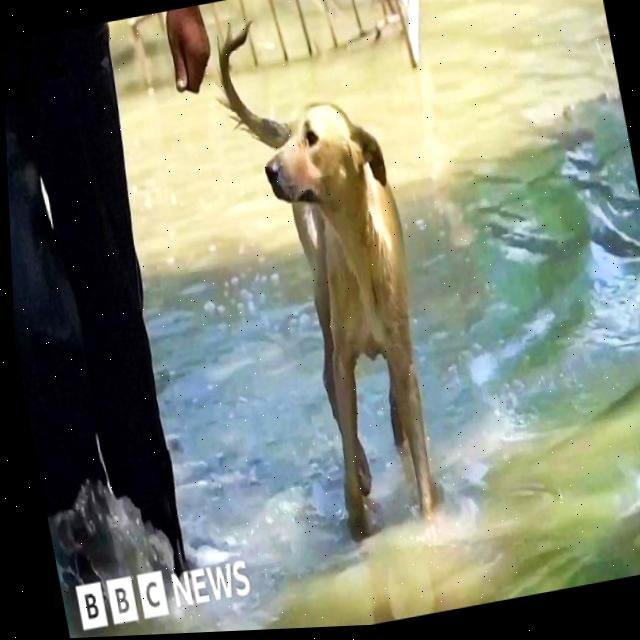dog: (196, 0, 470, 560)
